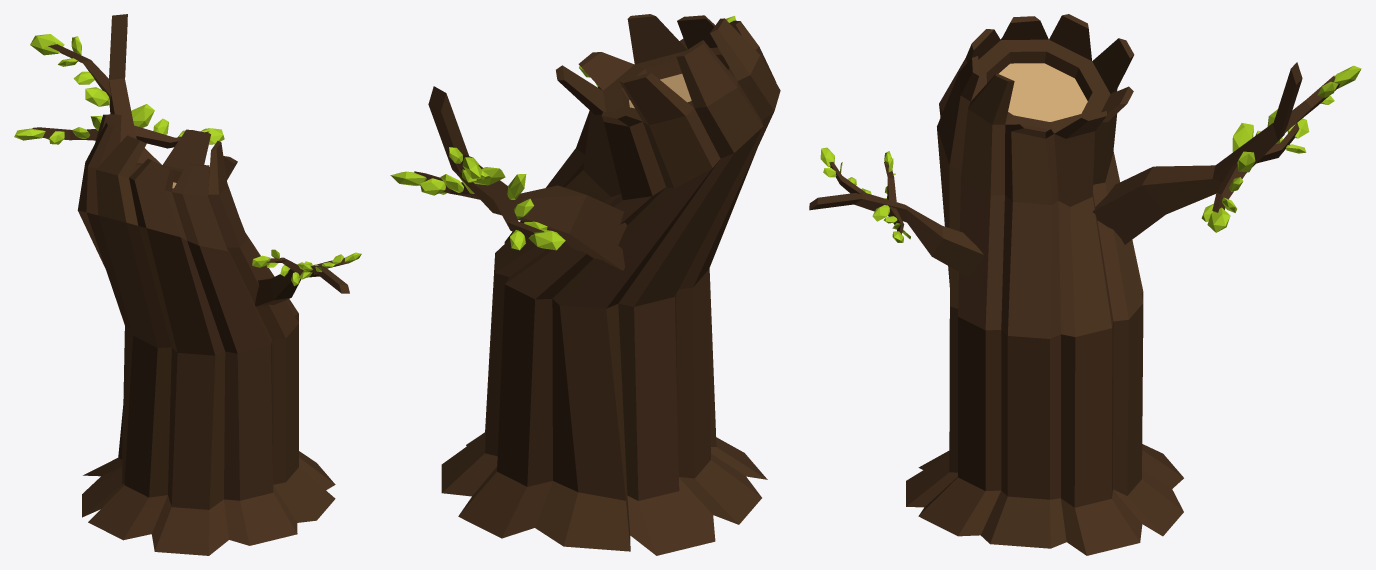
The model's file is logtree.fbx.
3 views of the same model, side by side, from view 1: azimuth 30°, elevation 25°; view 2: azimuth 150°, elevation 25°; view 3: azimuth 270°, elevation 25° (orthographic). The views are drawn at different scales.
Visible parts, largest first — view 1: Cylinder, Cylinder.001; view 2: Cylinder, Cylinder.001; view 3: Cylinder, Cylinder.001.
Part boxes in pixels (bbox=[...]): Cylinder: bbox=[77, 114, 335, 555]; Cylinder.001: bbox=[14, 14, 361, 306]; Cylinder: bbox=[441, 14, 780, 555]; Cylinder.001: bbox=[390, 16, 735, 270]; Cylinder: bbox=[906, 14, 1183, 555]; Cylinder.001: bbox=[809, 62, 1361, 277].
Bounding box in the file's own units: 60.87 × 97.98 × 109.
